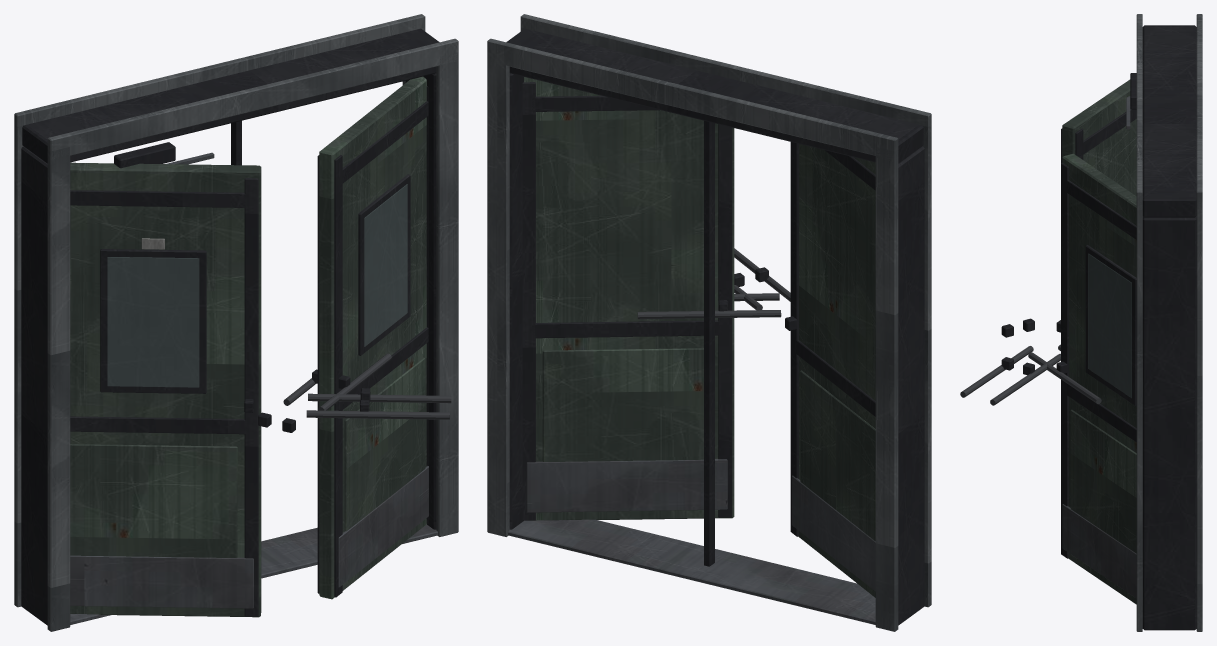
File: door_dbl.glb
3 renders of one model, left to right at view 1: azimuth 30°, elevation 25°; view 2: azimuth 150°, elevation 25°; view 3: azimuth 270°, elevation 25°, orthographic. The views are drawn at different scales.
Parts seen in each view (by area): view 1: door, frame, door2; view 2: frame, door2, door; view 3: frame, door2, door.
Boxes of the visible parts, x1,y1,x2,y2 form: door: [70, 162, 451, 617]; frame: [14, 14, 458, 631]; door2: [258, 76, 428, 599]; frame: [487, 14, 931, 631]; door2: [522, 77, 781, 520]; door: [734, 142, 875, 597]; frame: [1126, 14, 1202, 631]; door2: [1001, 153, 1136, 604]; door: [960, 79, 1136, 405].
Bounding box in the file's own units: 2.04 × 2.35 × 1.17.
6 materials, 5 textured.
